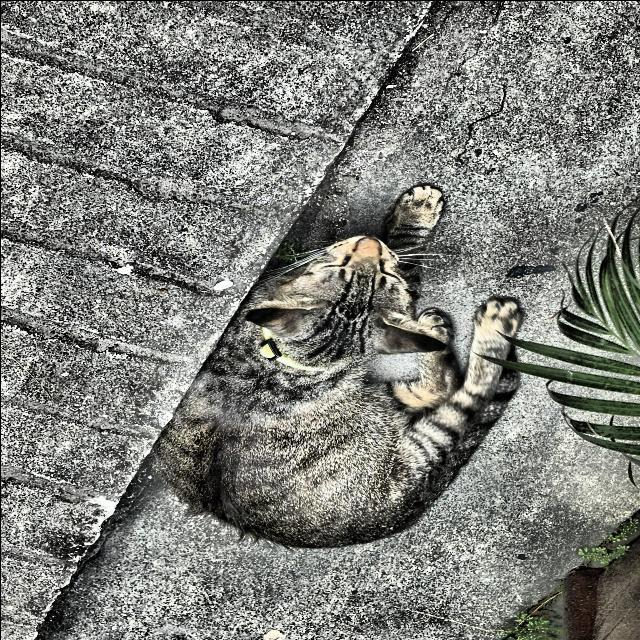Healthy skin: (219, 368, 361, 518)
